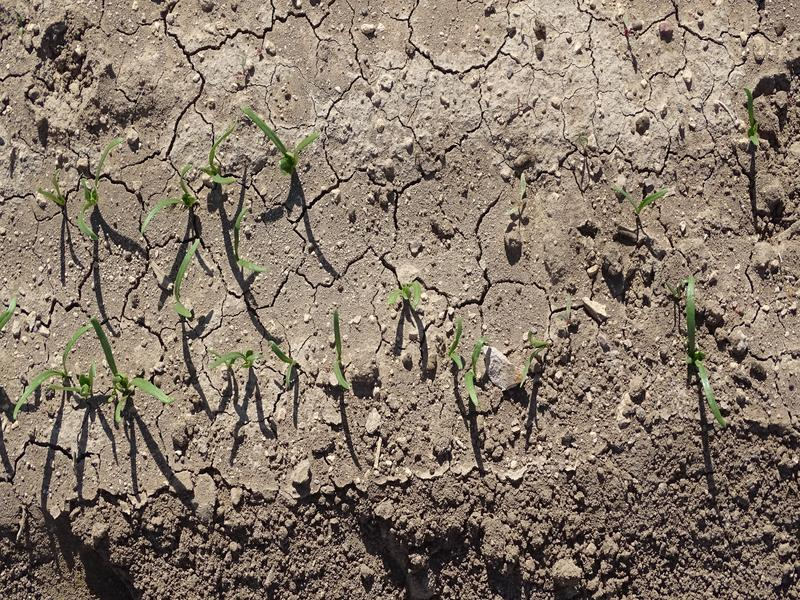Espinaca: (146, 113, 321, 227), (8, 337, 167, 414), (211, 320, 348, 396), (43, 139, 126, 237), (685, 272, 729, 428), (448, 321, 486, 401), (173, 245, 202, 316), (521, 330, 551, 382), (384, 274, 426, 308), (741, 84, 763, 148), (617, 186, 675, 210)
